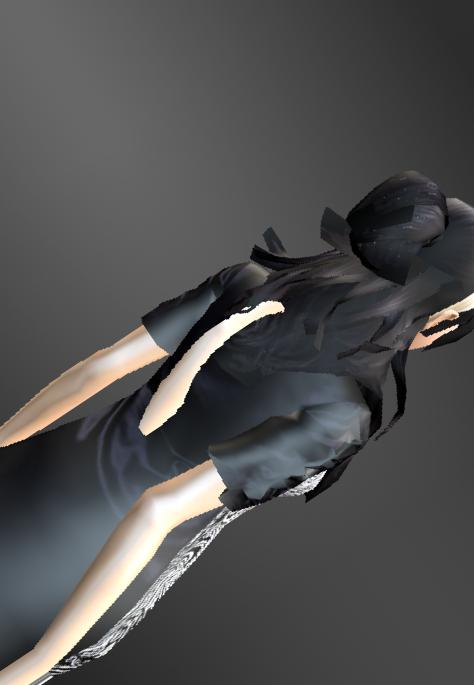clip: (235, 299, 291, 327)
